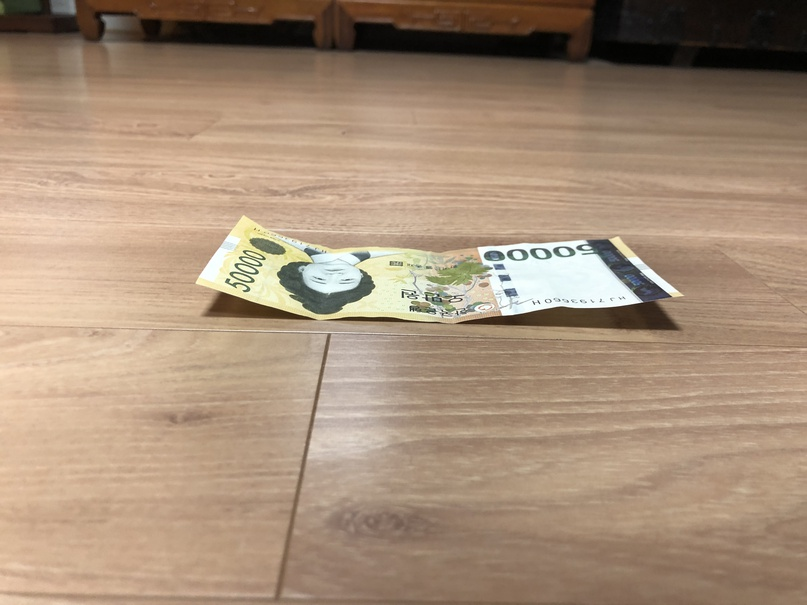50000won: (194, 213, 686, 325)
